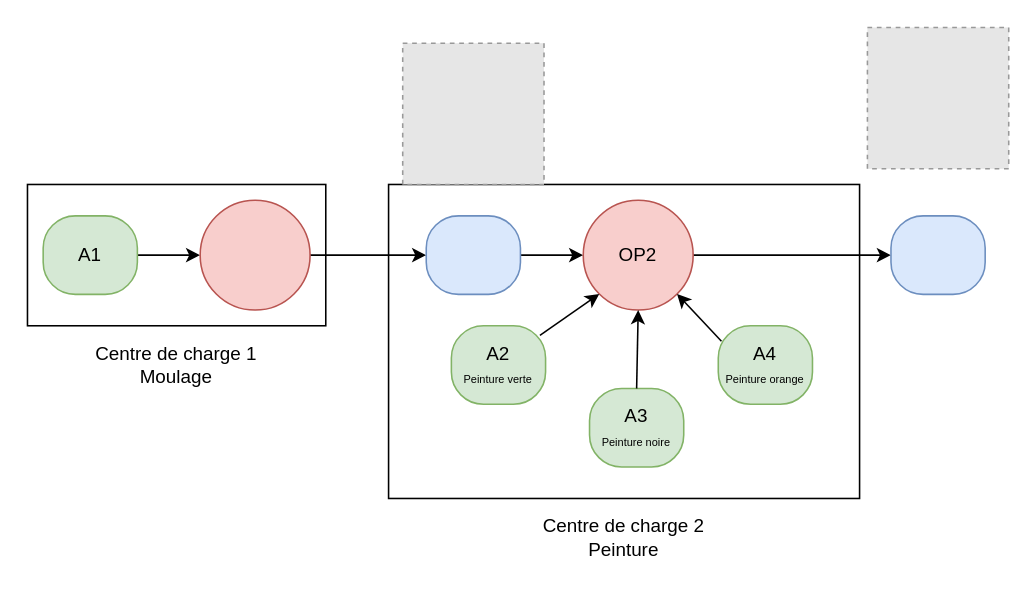
Image size: 1036x589. Some labels were removed from this diagram. Grey dashed boxes stand in for pictures. Each missing label, with the centre of its shape:
"OP1" goes at point 254,254.
"PF" goes at point 937,254.
"SP1" goes at point 472,254.
